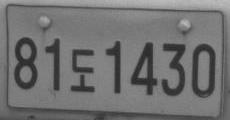0: (190, 42, 216, 98)
1: (42, 38, 68, 91), (102, 39, 127, 93)
3: (161, 42, 187, 97)
4: (130, 41, 158, 95)
8: (13, 36, 37, 89)
도: (69, 48, 95, 92)
